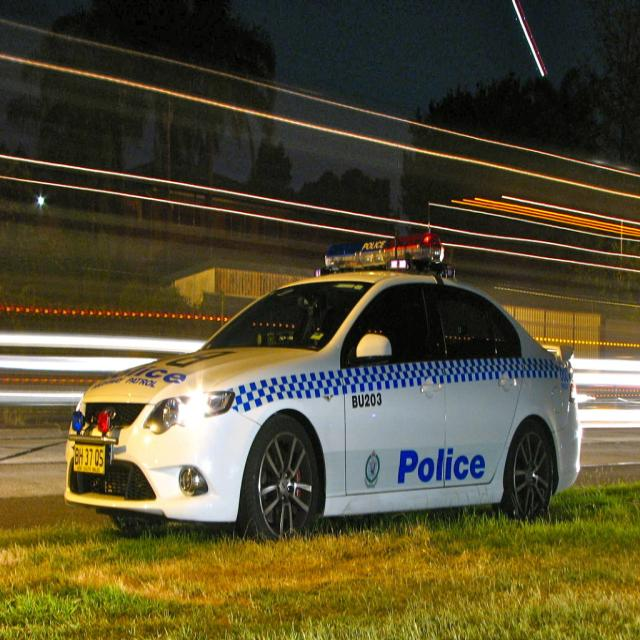car: (57, 238, 581, 546)
